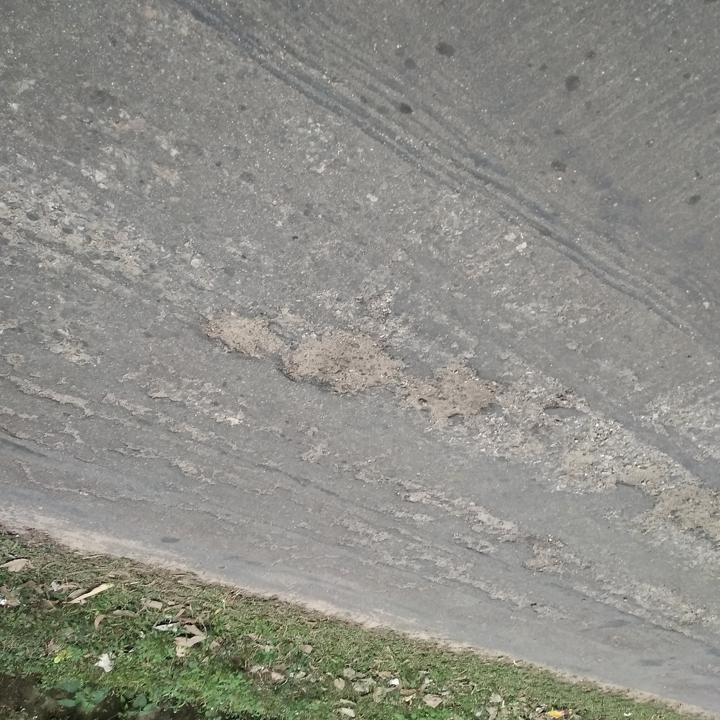pothole: (272, 328, 406, 402), (397, 360, 501, 428), (200, 317, 287, 363), (664, 491, 720, 556)
